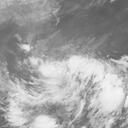cyclone: (39, 55, 125, 115)
